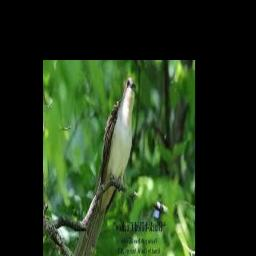Cuckoo: (70, 77, 136, 256)
